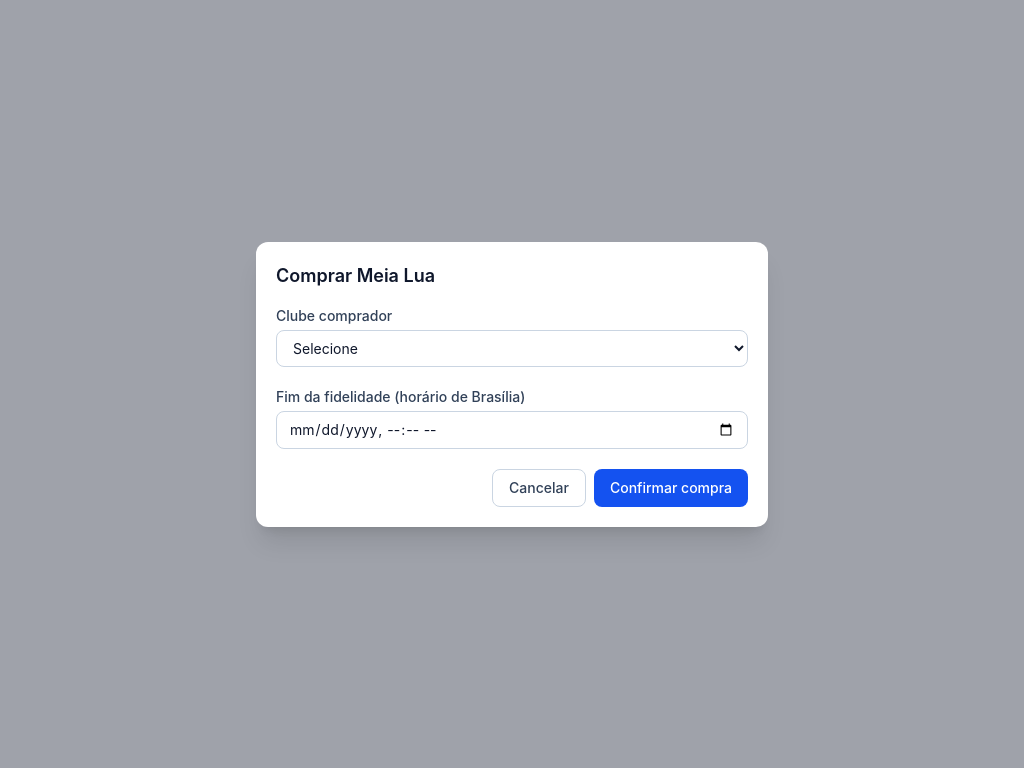
Test: PurchaseDialog › sends the club id as number and the date with -03:00, then shows the result
The image size is (1024, 768).
Select "AGU · Águias FC" in the dropdown labelled "Clube comprador" at (512, 348), box [276,330,748,366]
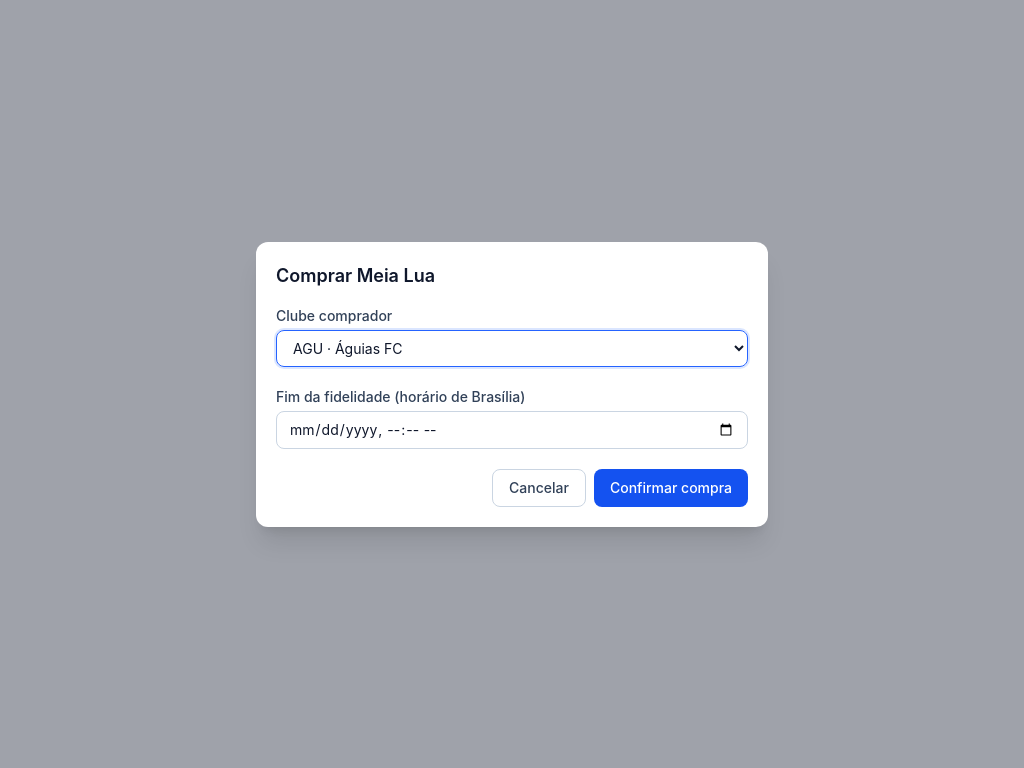
Type "2027-03-02T10:15" into the field labelled "Fim da fidelidade (horário de Brasília)" at (512, 430), box [276,410,748,448]
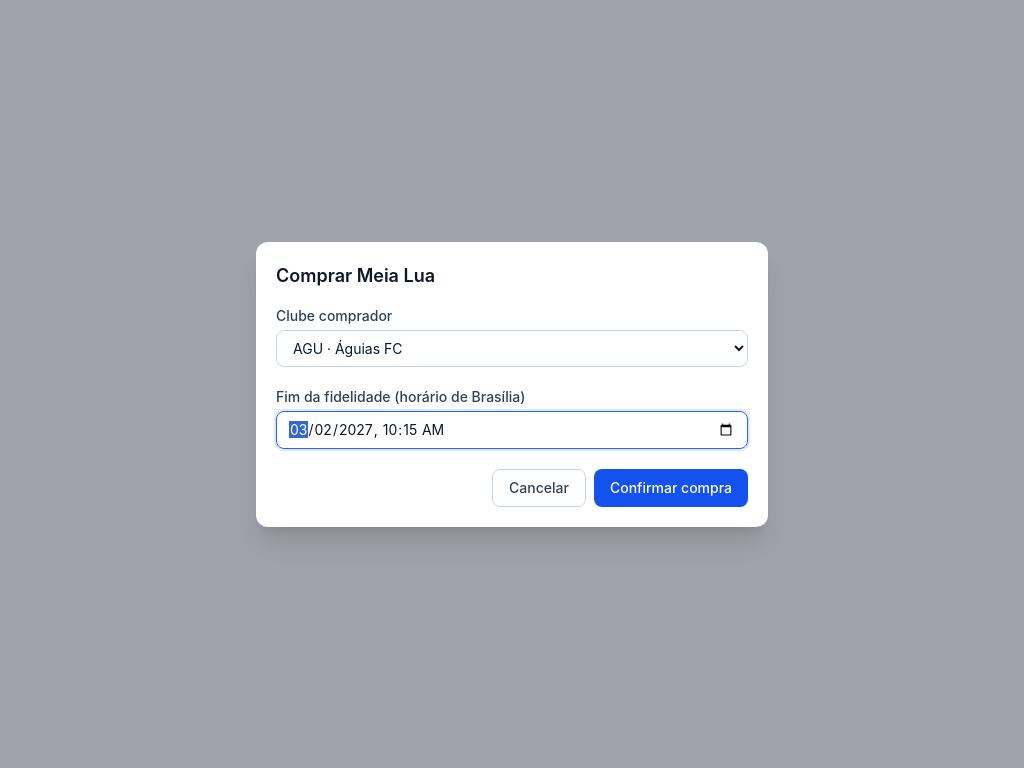
Click the button "Confirmar compra" at (671, 488), box [594,468,748,506]
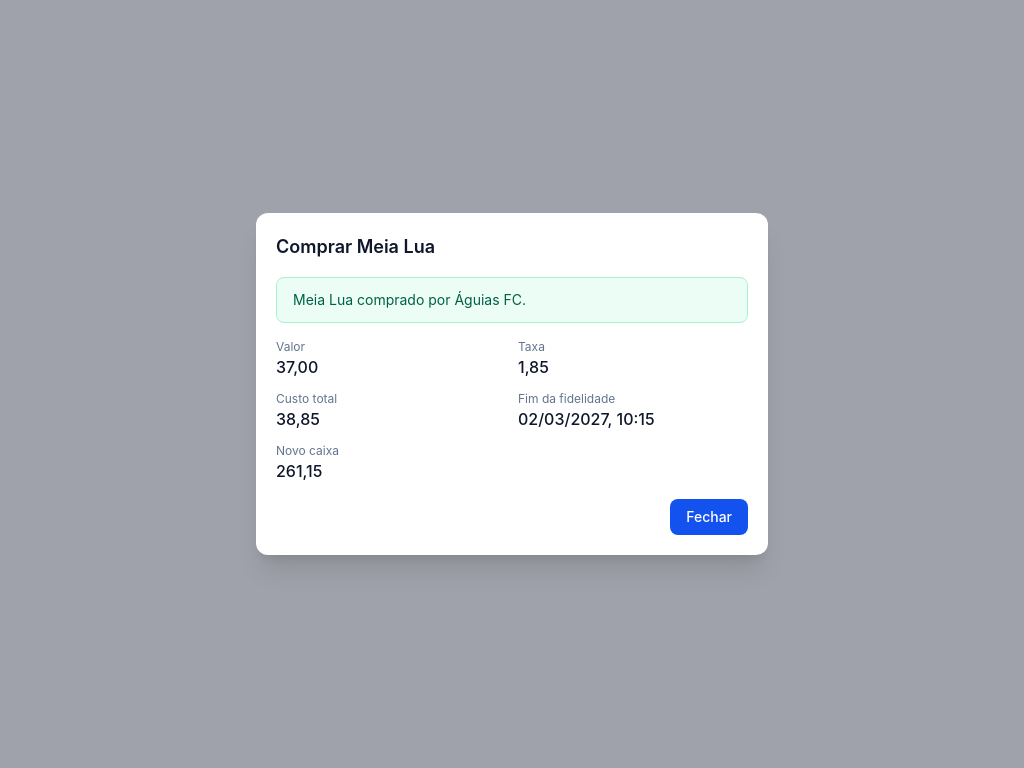
Expected: the text "37,00" is shown, [276,357,318,377]
Expected: the text "1,85" is shown, [518,357,549,377]
Expected: the text "38,85" is shown, [276,409,320,429]
